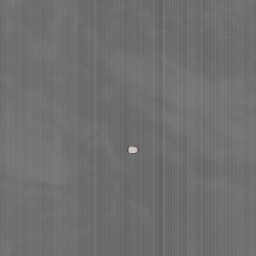Target: (127, 146, 138, 154)
